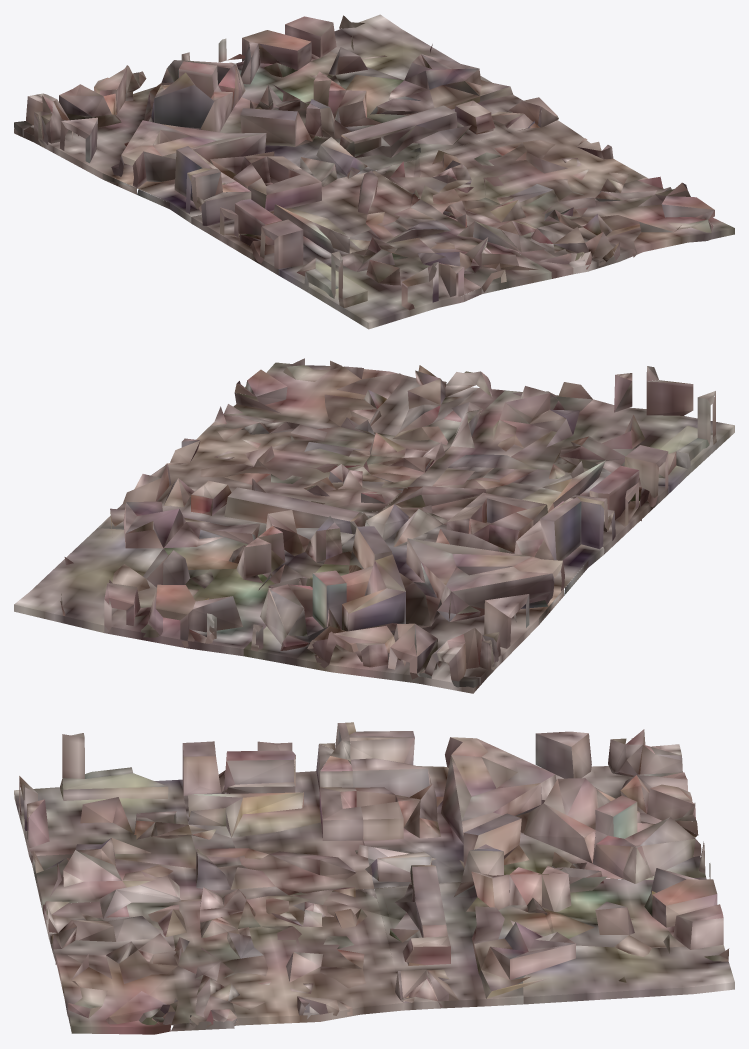
The picture shows the model from 3 angles, top to bottom: view 1: azimuth 30°, elevation 25°; view 2: azimuth 150°, elevation 25°; view 3: azimuth 270°, elevation 25°; orthographic projection. The views are drawn at different scales.
Visible parts, largest first — view 1: Mesh_0; view 2: Mesh_0; view 3: Mesh_0.
Boxes of the visible parts, box(x1,y1,x2,y2) form: Mesh_0: box(14, 14, 734, 329); Mesh_0: box(14, 358, 734, 693); Mesh_0: box(14, 722, 734, 1034).
Bounding box in the file's own units: 532 × 89.06 × 659.
Materials: 2 (2 with a texture image).
